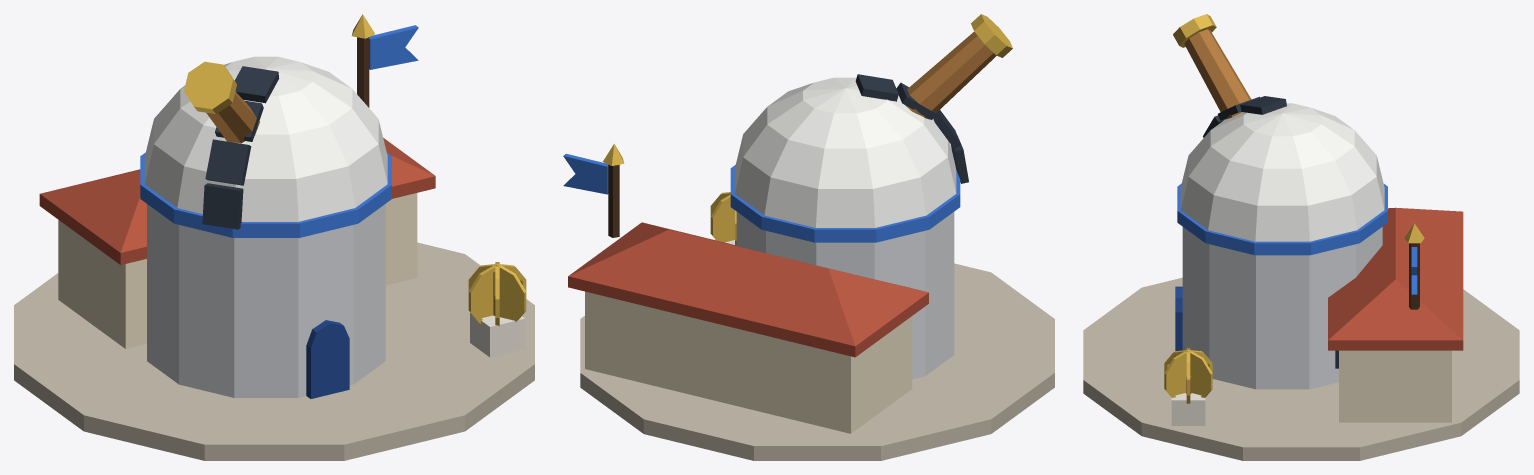
File: bld_observatory.glb
3 views of the same model, side by side, from view 1: azimuth 30°, elevation 25°; view 2: azimuth 150°, elevation 25°; view 3: azimuth 270°, elevation 25° (orthographic). The views are drawn at different scales.
Visible parts, largest first — view 1: bld_observatory; view 2: bld_observatory; view 3: bld_observatory.
Part boxes in pixels (<box>): bld_observatory: <box>14,14,534,460</box>; bld_observatory: <box>563,14,1054,460</box>; bld_observatory: <box>1083,14,1519,460</box>.
Size of the model in its own units: 0.4636 by 0.3552 by 0.4636.
